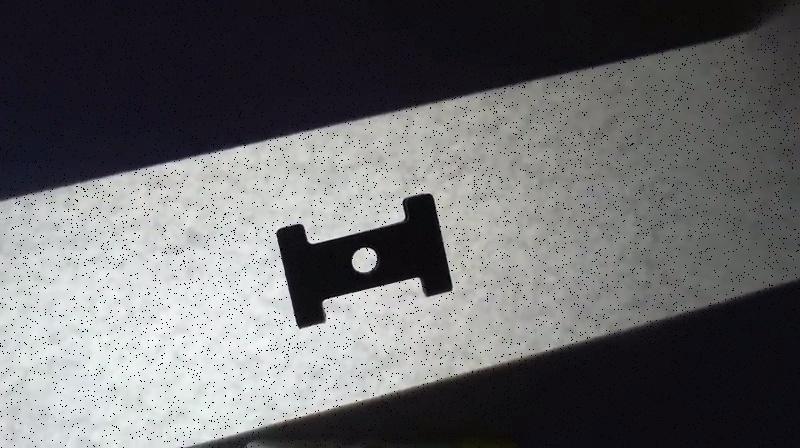O002: (273, 190, 457, 335)
